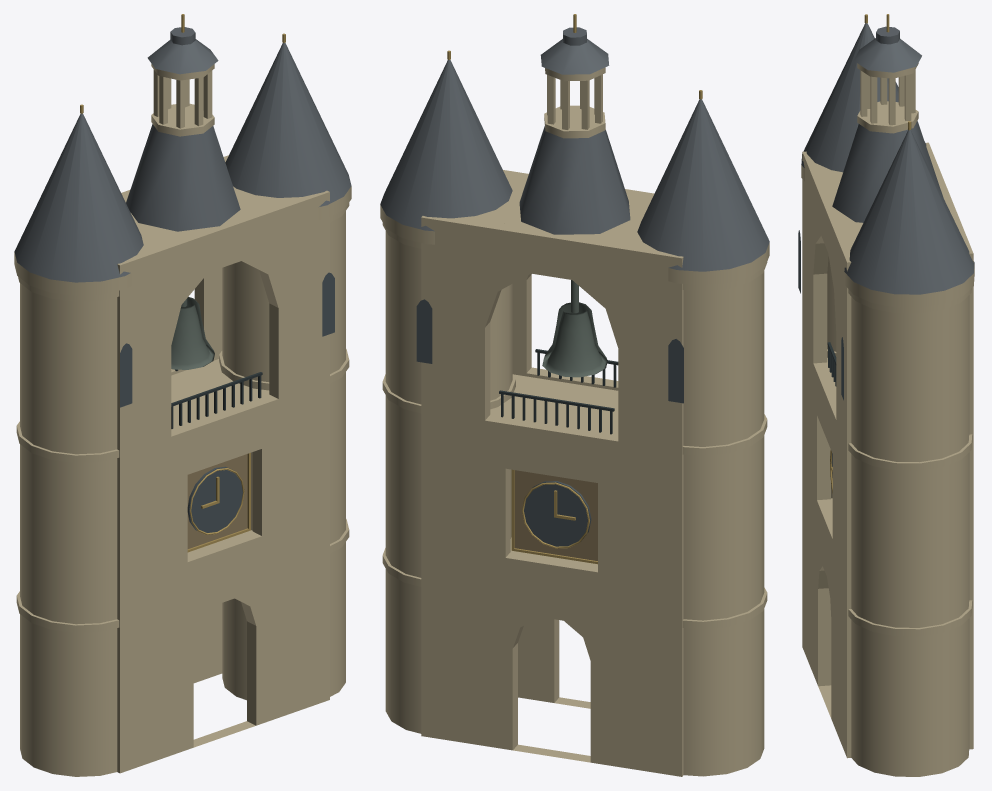
File: grosse-cloche-bordeaux-far.glb
3 renders of one model, left to right at view 1: azimuth 30°, elevation 25°; view 2: azimuth 150°, elevation 25°; view 3: azimuth 270°, elevation 25°, orthographic. The views are drawn at different scales.
Parts seen in each view (by area): view 1: grosse-cloche-bordeaux-0-plaster, grosse-cloche-bordeaux-0-roof, grosse-cloche-bordeaux-0-glass, grosse-cloche-bordeaux-0-bell, grosse-cloche-bordeaux-0-trim, grosse-cloche-bordeaux-0-shadow, grosse-cloche-bordeaux-0-gold; view 2: grosse-cloche-bordeaux-0-plaster, grosse-cloche-bordeaux-0-roof, grosse-cloche-bordeaux-0-glass, grosse-cloche-bordeaux-0-bell, grosse-cloche-bordeaux-0-trim, grosse-cloche-bordeaux-0-shadow, grosse-cloche-bordeaux-0-gold; view 3: grosse-cloche-bordeaux-0-plaster, grosse-cloche-bordeaux-0-roof, grosse-cloche-bordeaux-0-glass.
Boxes of the visible parts, <box> form: grosse-cloche-bordeaux-0-plaster: <box>14,63,351,776</box>; grosse-cloche-bordeaux-0-roof: <box>14,27,351,282</box>; grosse-cloche-bordeaux-0-glass: <box>120,272,334,532</box>; grosse-cloche-bordeaux-0-bell: <box>171,297,214,369</box>; grosse-cloche-bordeaux-0-trim: <box>187,454,247,548</box>; grosse-cloche-bordeaux-0-shadow: <box>171,369,262,428</box>; grosse-cloche-bordeaux-0-gold: <box>80,14,285,552</box>; grosse-cloche-bordeaux-0-plaster: <box>380,67,769,776</box>; grosse-cloche-bordeaux-0-roof: <box>380,27,769,271</box>; grosse-cloche-bordeaux-0-glass: <box>416,299,683,546</box>; grosse-cloche-bordeaux-0-bell: <box>542,280,607,377</box>; grosse-cloche-bordeaux-0-trim: <box>514,470,597,560</box>; grosse-cloche-bordeaux-0-shadow: <box>499,349,618,434</box>; grosse-cloche-bordeaux-0-gold: <box>447,14,702,564</box>; grosse-cloche-bordeaux-0-plaster: <box>801,63,974,776</box>; grosse-cloche-bordeaux-0-roof: <box>801,23,974,294</box>; grosse-cloche-bordeaux-0-glass: <box>798,230,843,477</box>.
Size of the model in its own units: 20.31 by 40 by 9.52.
